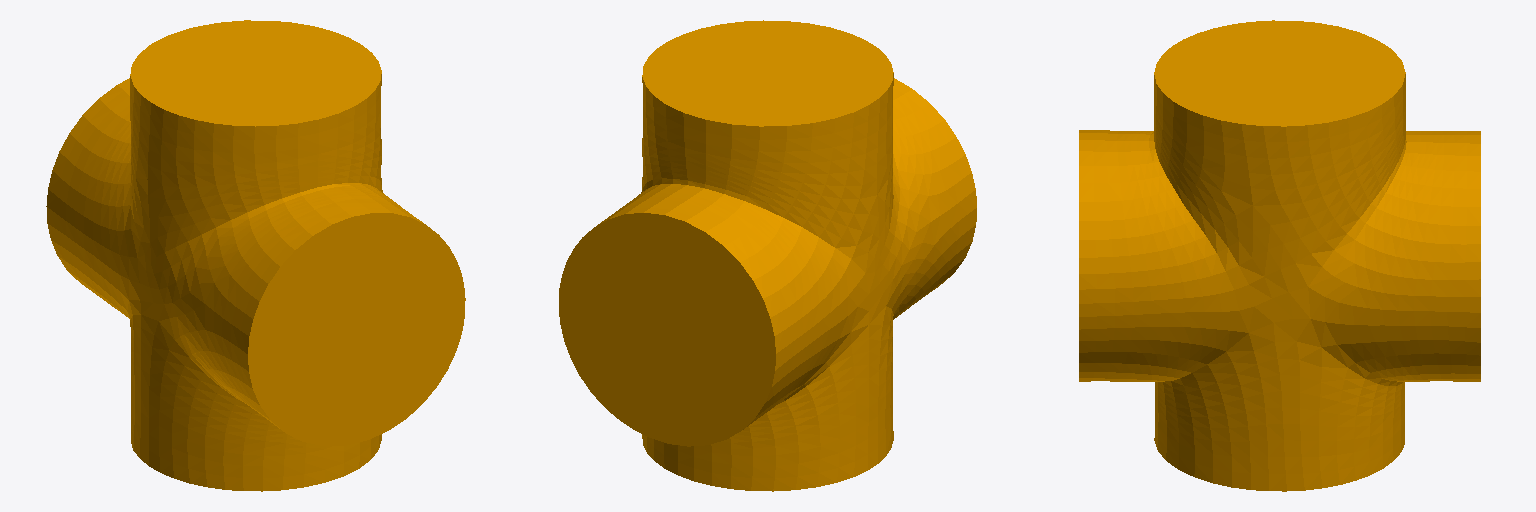
robot.urdf — object:
<robot name="object">
  <link name="object">
    <visual>
      <origin xyz="0 0 0"/>
      <geometry>
        <mesh filename="visual.obj" scale="1 1 1"/>
      </geometry>
    </visual>
    <collision>
      <origin xyz="0 0 0"/>
      <geometry>
        <mesh filename="visual.obj" scale="1 1 1"/>
      </geometry>
    </collision>
    <inertial>
      <mass value="0.05"/>
      <inertia ixx="5.877216416112711e-05" iyy="4.134837256416895e-05" izz="4.1355364183618205e-05" ixy="-4.434769960034574e-09" ixz="-1.8322612248100293e-09" iyz="6.11569137537963e-09"/>
    </inertial>
  </link>
</robot>

--- Facts derived from the render (not from the file) ---
Views: 3 orthographic renders of the robot side by side, from view 1: azimuth 30°, elevation 25°; view 2: azimuth 150°, elevation 25°; view 3: azimuth 270°, elevation 25°.
Robot: object — 1 links, 0 joints (none); root link object; default pose: every joint at zero.
Visible links, largest first — view 1: object; view 2: object; view 3: object.
Boxes of the visible links, box(x1,y1,x2,y2) form: object: box(46, 20, 465, 491); object: box(559, 20, 976, 491); object: box(1079, 20, 1480, 491).
Bounding box of the posed robot: 0.0599 × 0.096 × 0.096 m (x, y, z).
Meshes: 1 distinct files referenced, 1 mesh visuals loaded (1 OBJ).
